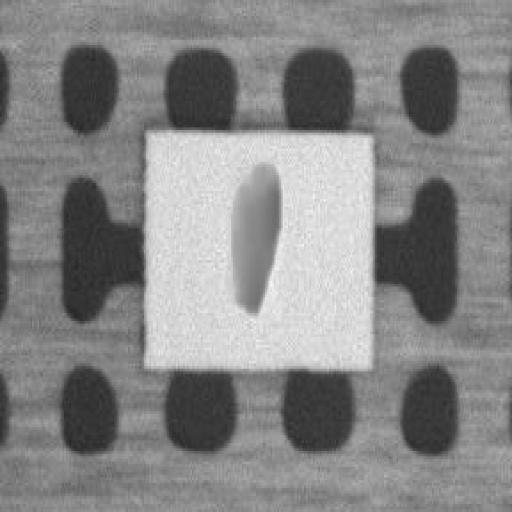DIE_INK: (222, 156, 283, 316)
